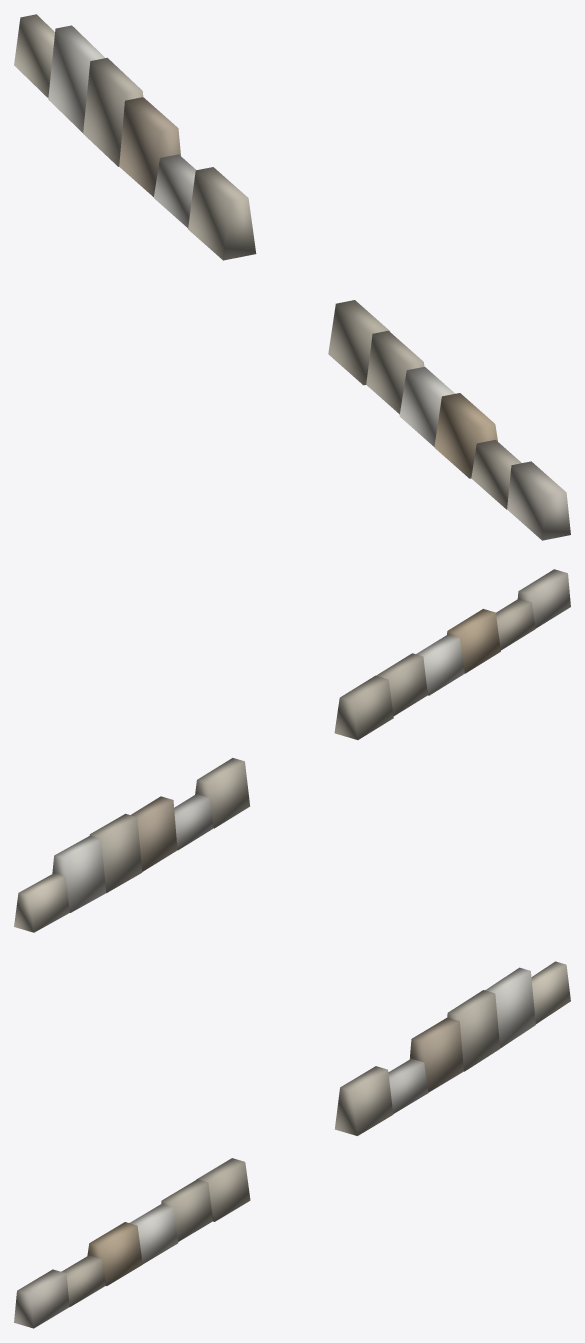
Rendered from farm_-31_-31_collision.glb.
3 renders of one model, top to bottom at view 1: azimuth 30°, elevation 25°; view 2: azimuth 150°, elevation 25°; view 3: azimuth 330°, elevation 25°, orthographic. The views are drawn at different scales.
Parts seen in each view (by area): view 1: geometry_0; view 2: geometry_0; view 3: geometry_0.
Part boxes in pixels (bbox=[...]): geometry_0: bbox=[14, 14, 570, 540]; geometry_0: bbox=[14, 569, 570, 932]; geometry_0: bbox=[14, 961, 570, 1328].
Bounding box in the file's own units: 2.49 × 1.49 × 22.7.
